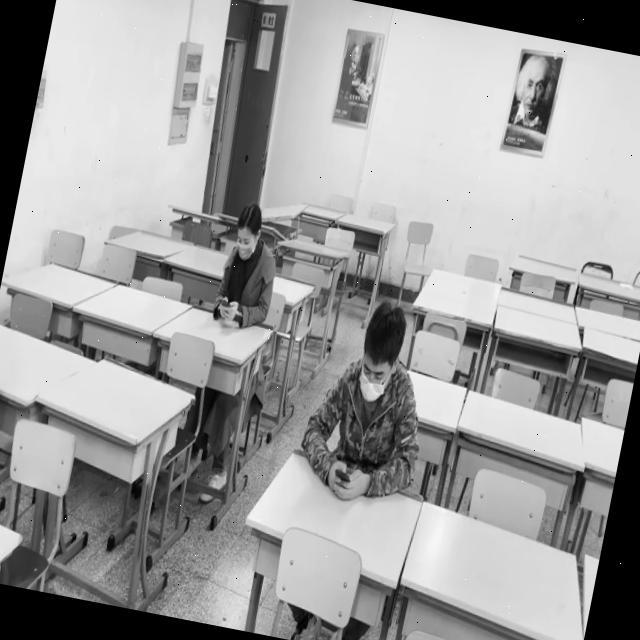phone: (294, 292, 447, 506), (210, 198, 289, 331)
